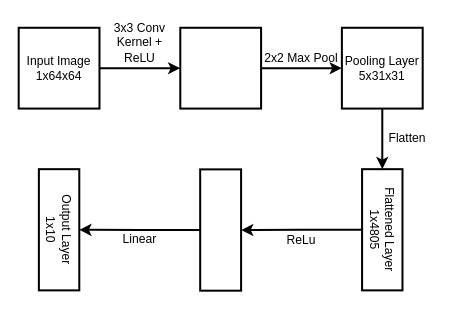
The diagram is 449 pixels wide and 309 high, and some of its shapes have lost their labels. Here are the shapes that lost their labels. From the top down, the centre of each, then its label:
At point (220, 67): "Convolutional Layer 5x62x62".
At point (220, 229): "Fully Connected Layer 1x200".
